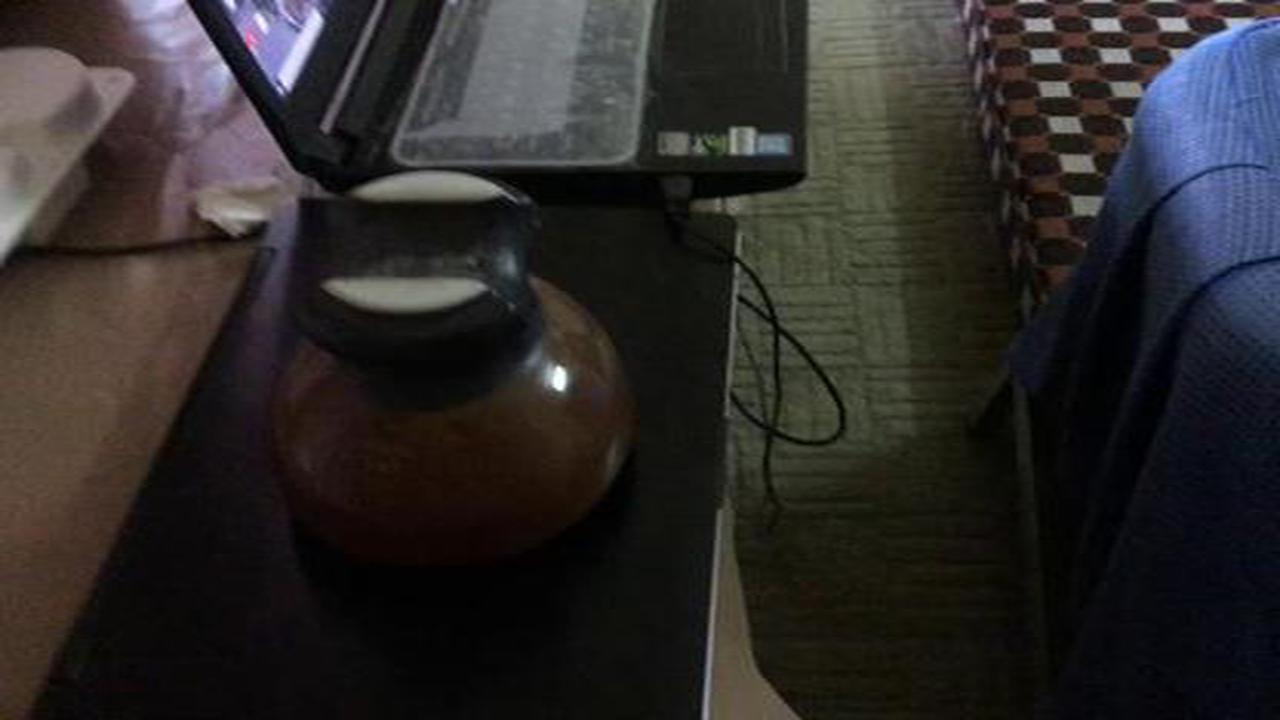insulator_pin: (237, 163, 656, 592)
